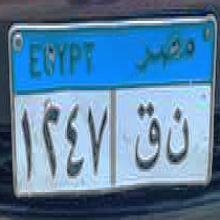1: (20, 107, 33, 176)
2: (42, 104, 63, 176)
4: (64, 102, 82, 176)
7: (86, 104, 110, 174)
noon: (164, 106, 190, 169)
qaaf: (132, 100, 162, 178)
